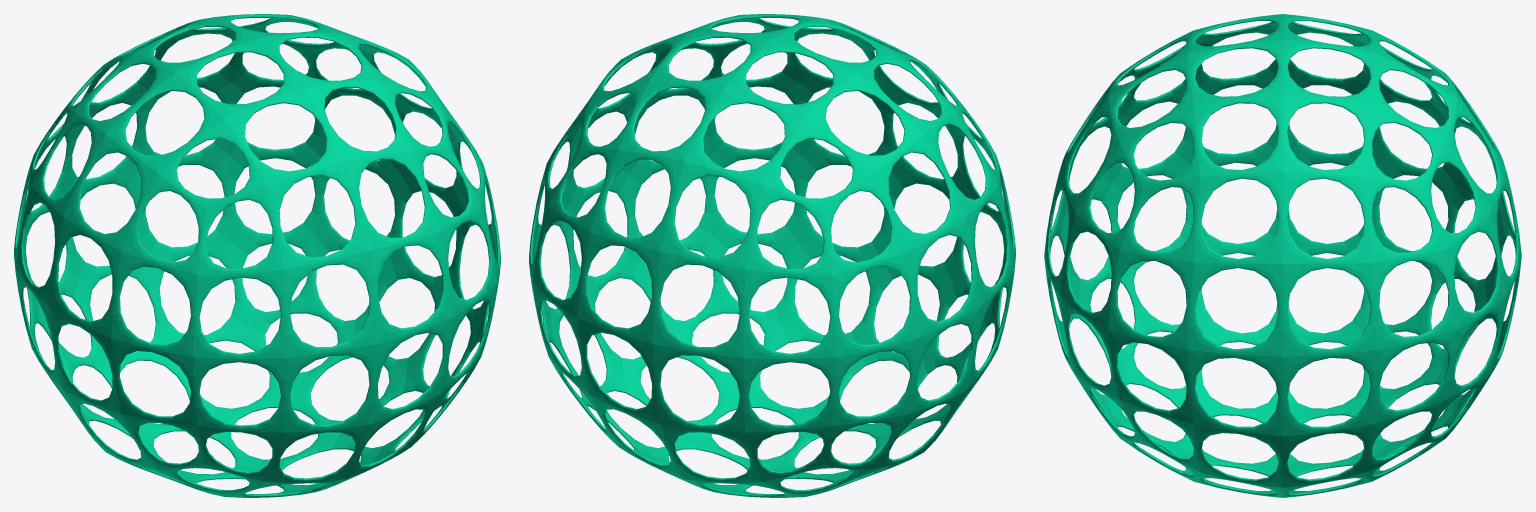
File: structures_1.fbx
3 renders of one model, left to right at view 1: azimuth 30°, elevation 25°; view 2: azimuth 150°, elevation 25°; view 3: azimuth 270°, elevation 25°, orthographic.
Visible parts, largest first — view 1: Cube.001; view 2: Cube.001; view 3: Cube.001.
Boxes of the visible parts, box(x1,y1,x2,y2) form: Cube.001: box(14, 14, 500, 497); Cube.001: box(529, 14, 1015, 497); Cube.001: box(1044, 14, 1521, 497).
Bounding box in the file's own units: 175 × 175 × 175.
